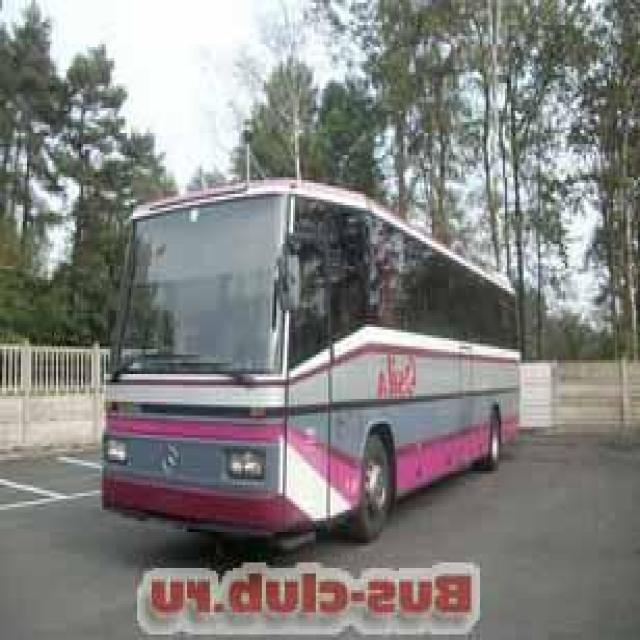Bus: (93, 169, 526, 551)
